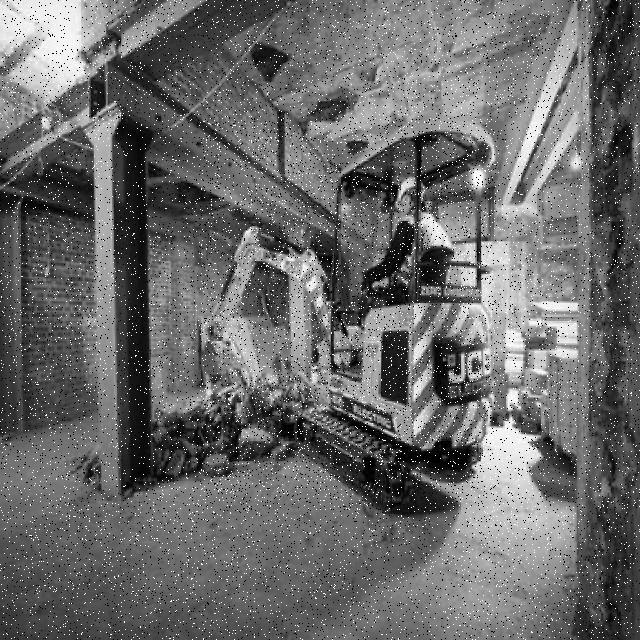Construction Equipment: (200, 116, 495, 510)
